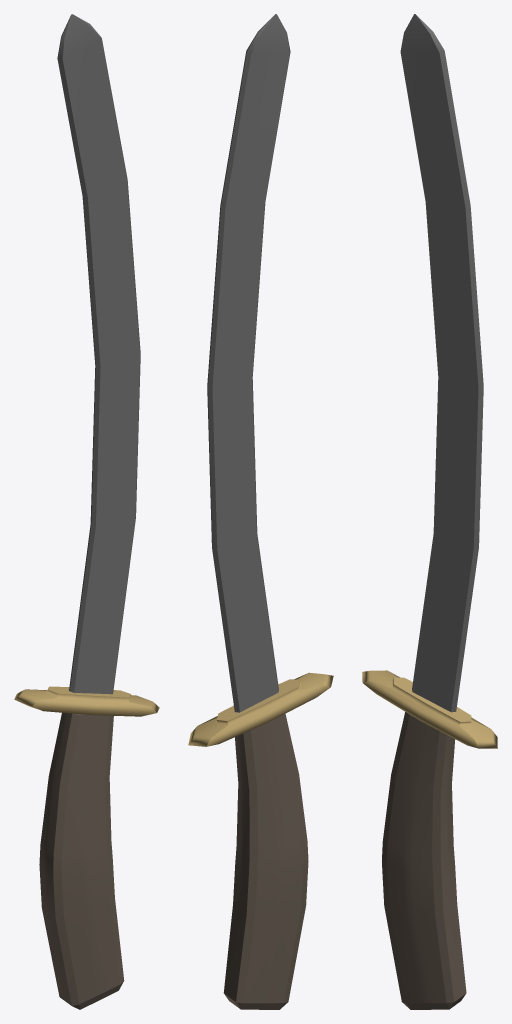
Rendered from sword.fbx.
3 renders of one model, left to right at view 1: azimuth 30°, elevation 25°; view 2: azimuth 210°, elevation 25°; view 3: azimuth 330°, elevation 25°, orthographic.
Visible parts, largest first — view 1: pCube6, pCube5, pCube4; view 2: pCube6, pCube5, pCube4; view 3: pCube6, pCube5, pCube4.
Part boxes in pixels (x1,y1,x2,y2): pCube6: (57,14,140,694); pCube5: (39,712,124,1009); pCube4: (14,686,159,716); pCube6: (207,14,290,712); pCube5: (223,713,308,1009); pCube4: (188,672,333,746); pCube6: (400,14,483,712); pCube5: (382,712,466,1009); pCube4: (362,670,497,748).
Size of the model in its own units: 1.9 by 12.79 by 0.5103.
